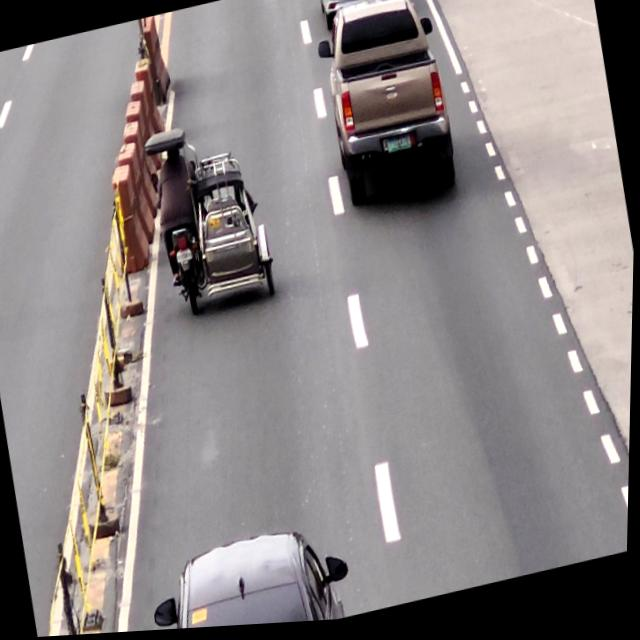Car: (309, 0, 464, 220), (145, 518, 359, 633), (312, 0, 397, 37)
License-Plate: (385, 135, 414, 158), (176, 248, 194, 265)
Tricycle: (138, 107, 283, 329)
